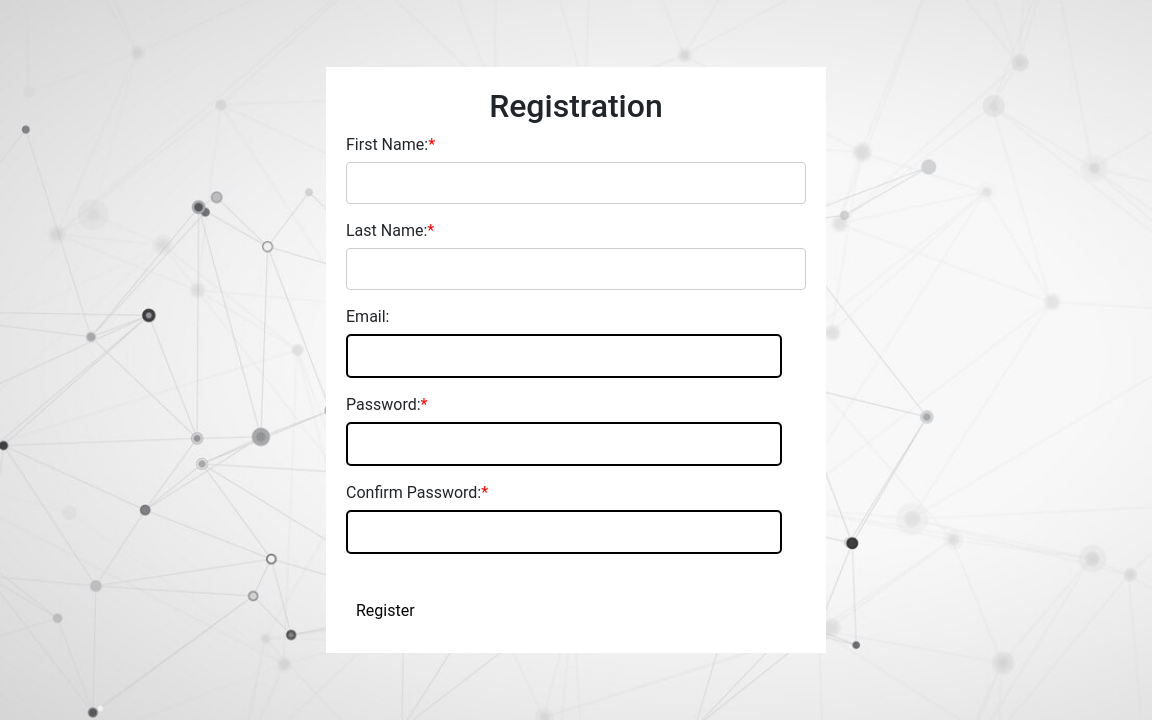
it: Registration component › validates email input
Type "invalidemail.com" into the field labelled "Email:" at (564, 356), box [346,334,782,378]
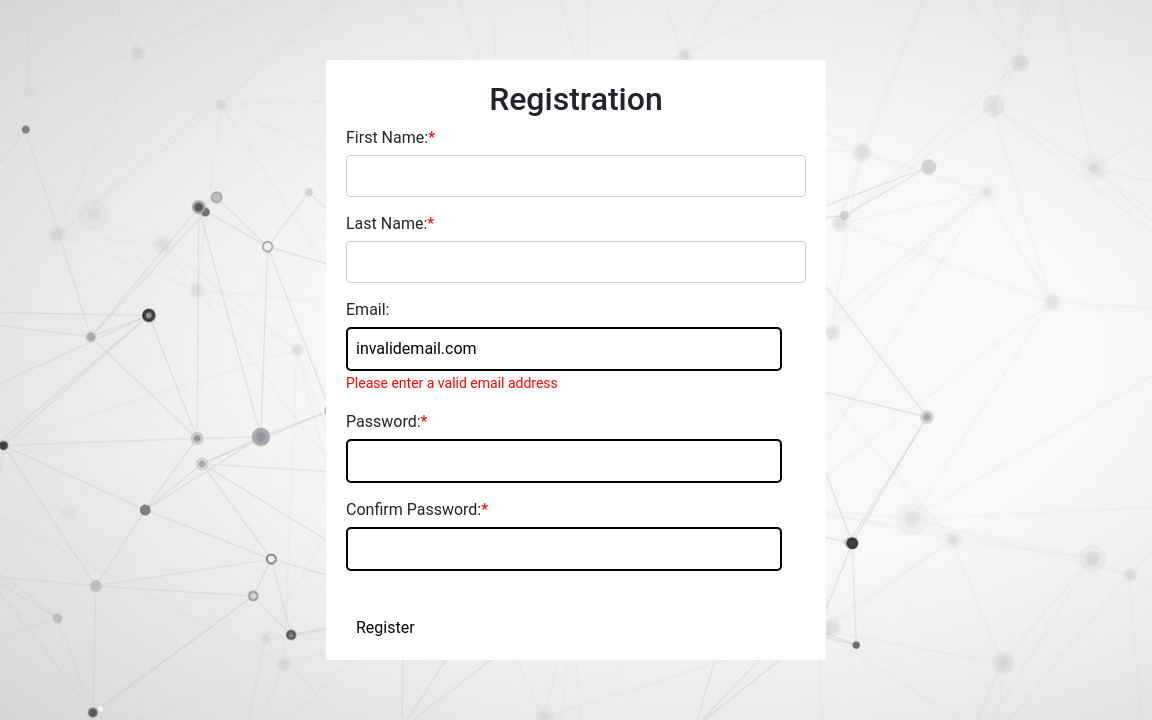
Expected: the text "Please enter a valid email address" is shown, [346,375,558,391]
